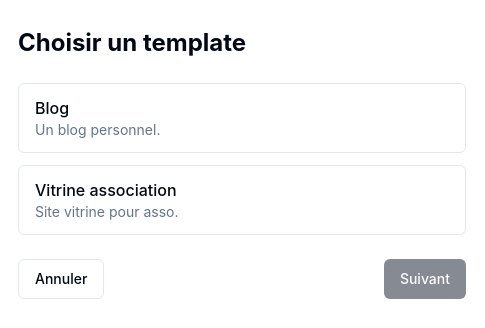
Test: NewProjectWizard › can go back from config to template step
This screenshot has width=485, height=328.
Click the text "Blog" at point(52, 108), box [35, 98, 69, 118]
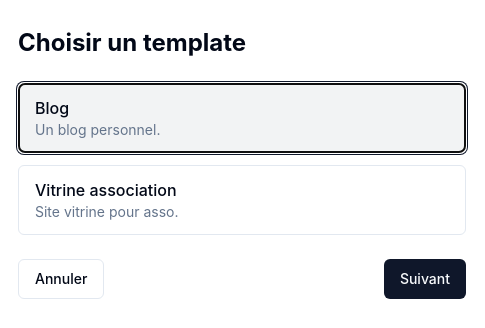
Click the button "Suivant" at point(425, 279), box [384, 259, 466, 299]
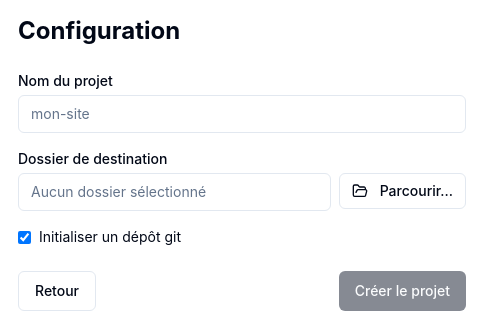
Check: the heading "Configuration" is shown, box [18, 16, 180, 45]
Click the button "Retour" at point(57, 291), box [18, 271, 96, 311]
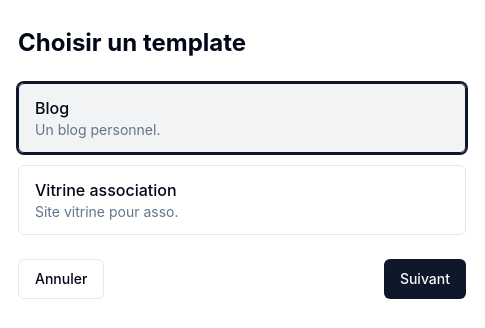
Check: the heading "Choisir un template" is shown, box [18, 28, 246, 57]
